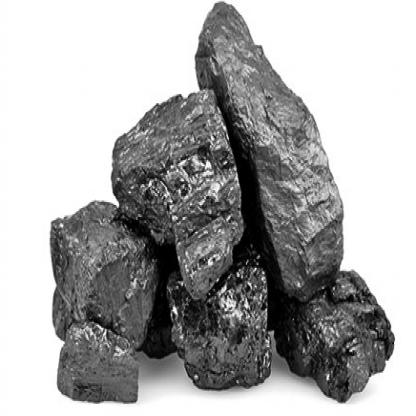Sedimentary_coal: (179, 0, 360, 301), (109, 81, 245, 298), (25, 184, 160, 340), (282, 272, 400, 400), (169, 266, 275, 386), (40, 319, 149, 407)
